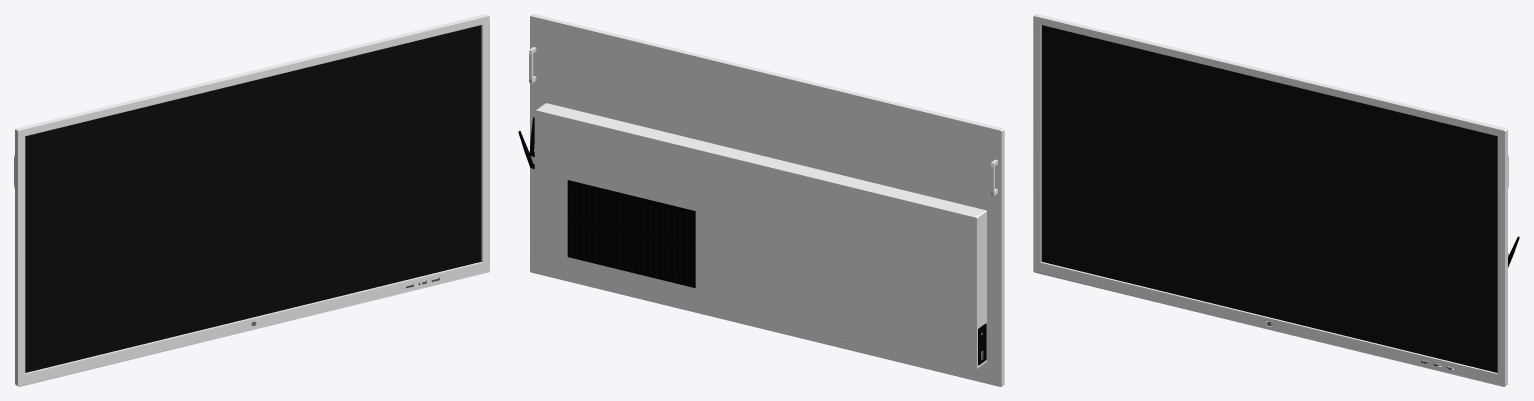
File: dev-interactive-panel.glb
3 renders of one model, left to right at view 1: azimuth 30°, elevation 25°; view 2: azimuth 150°, elevation 25°; view 3: azimuth 330°, elevation 25°, orthographic.
Visible parts, largest first — view 1: body; view 2: body; view 3: body.
Boxes of the visible parts, left/top/right/bottom form: body: left=14, top=14, right=489, bottom=386; body: left=518, top=14, right=1004, bottom=386; body: left=1033, top=14, right=1519, bottom=386.
Size of the model in its own units: 1.49 by 0.7657 by 0.0723.
10 materials, 2 textured.
